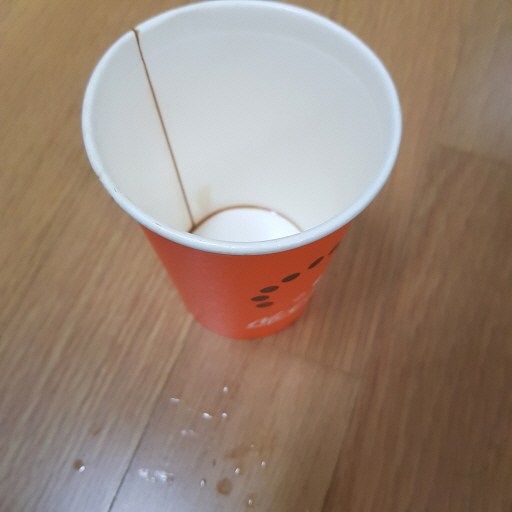Paper_1: (80, 1, 403, 336)
